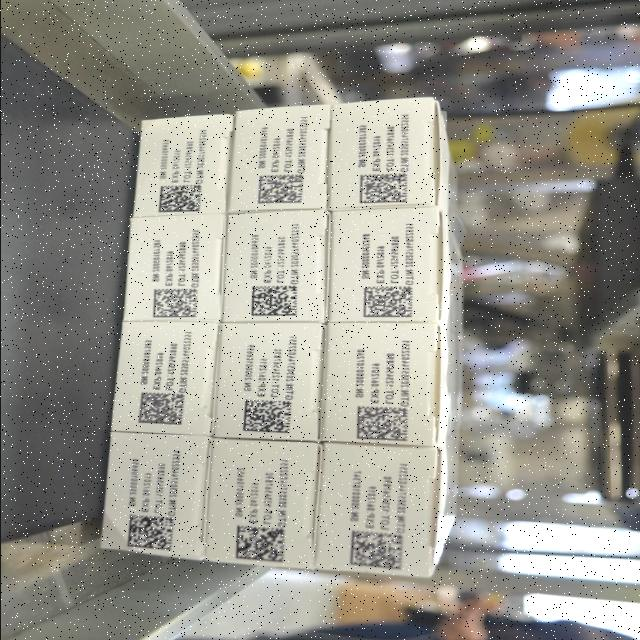datamatrix: (344, 526, 409, 573), (121, 511, 179, 554), (231, 522, 288, 564), (350, 406, 411, 443), (236, 399, 295, 435), (360, 284, 418, 319), (354, 173, 410, 208), (254, 172, 310, 207), (142, 285, 198, 320), (246, 282, 301, 317), (134, 391, 188, 426), (150, 182, 204, 216)
